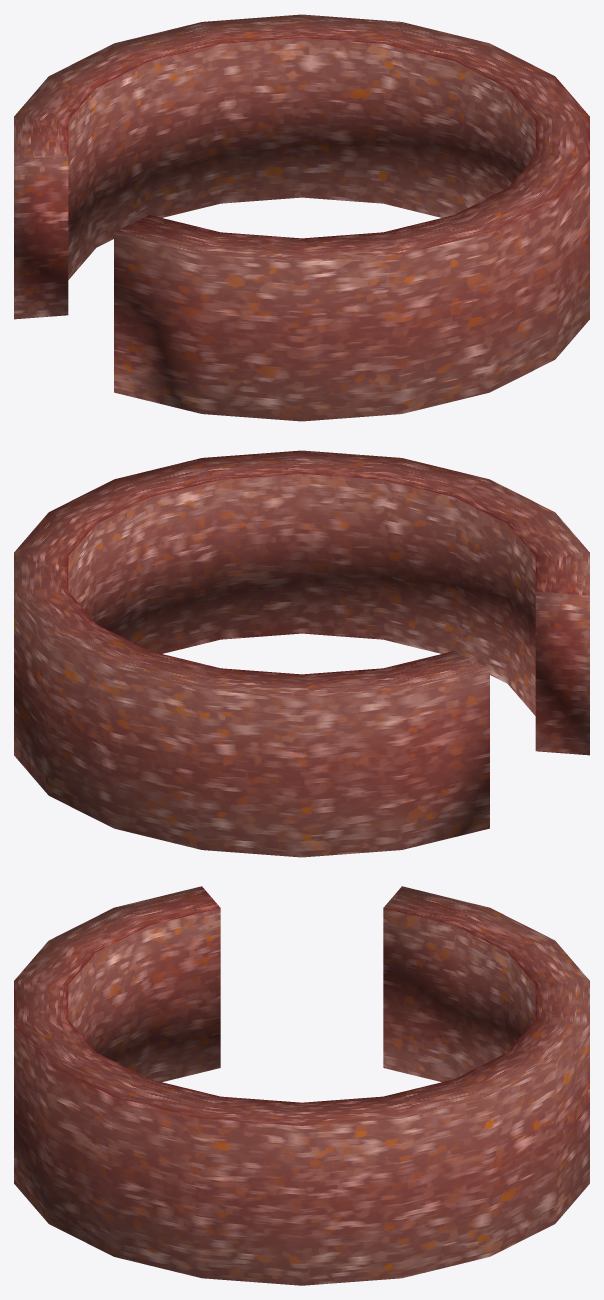
The model's file is MuroBoss.fbx.
3 views of the same model, one above another, from view 1: azimuth 30°, elevation 25°; view 2: azimuth 150°, elevation 25°; view 3: azimuth 270°, elevation 25° (orthographic).
Parts seen in each view (by area): view 1: MuroBoss; view 2: MuroBoss; view 3: MuroBoss.
Part boxes in pixels (x1,y1,x2,y2): MuroBoss: (14, 14, 589, 421); MuroBoss: (14, 450, 589, 857); MuroBoss: (14, 886, 589, 1285).
Bounding box in the file's own units: 219 × 68.15 × 223.
